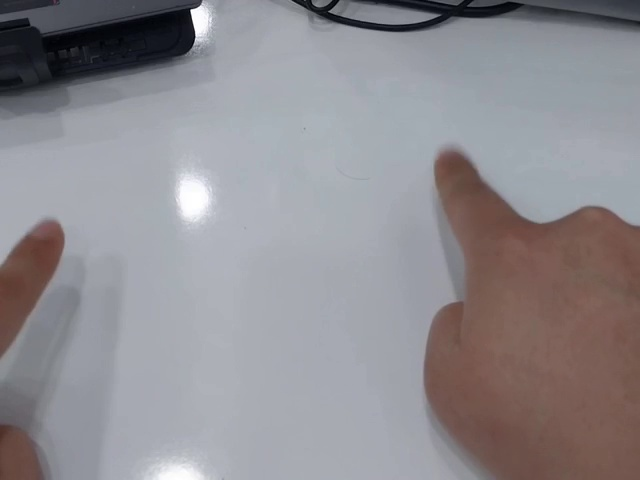fingers: (17, 217, 66, 278), (433, 143, 482, 190)
